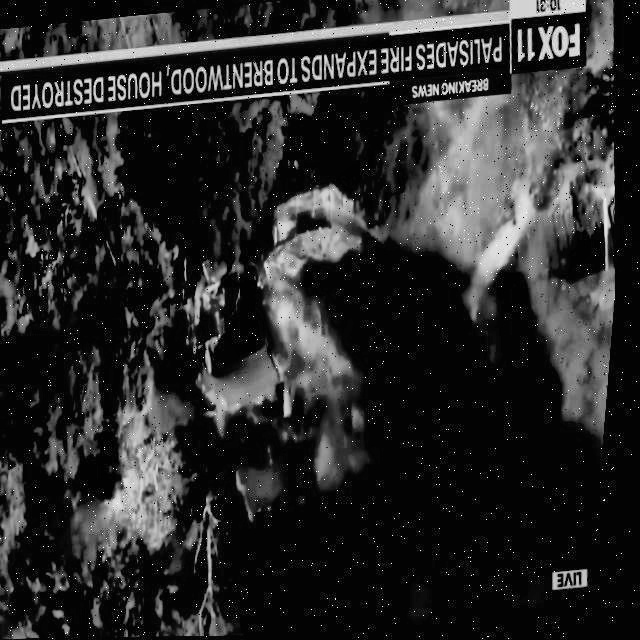Smoke: (337, 231, 584, 629)
